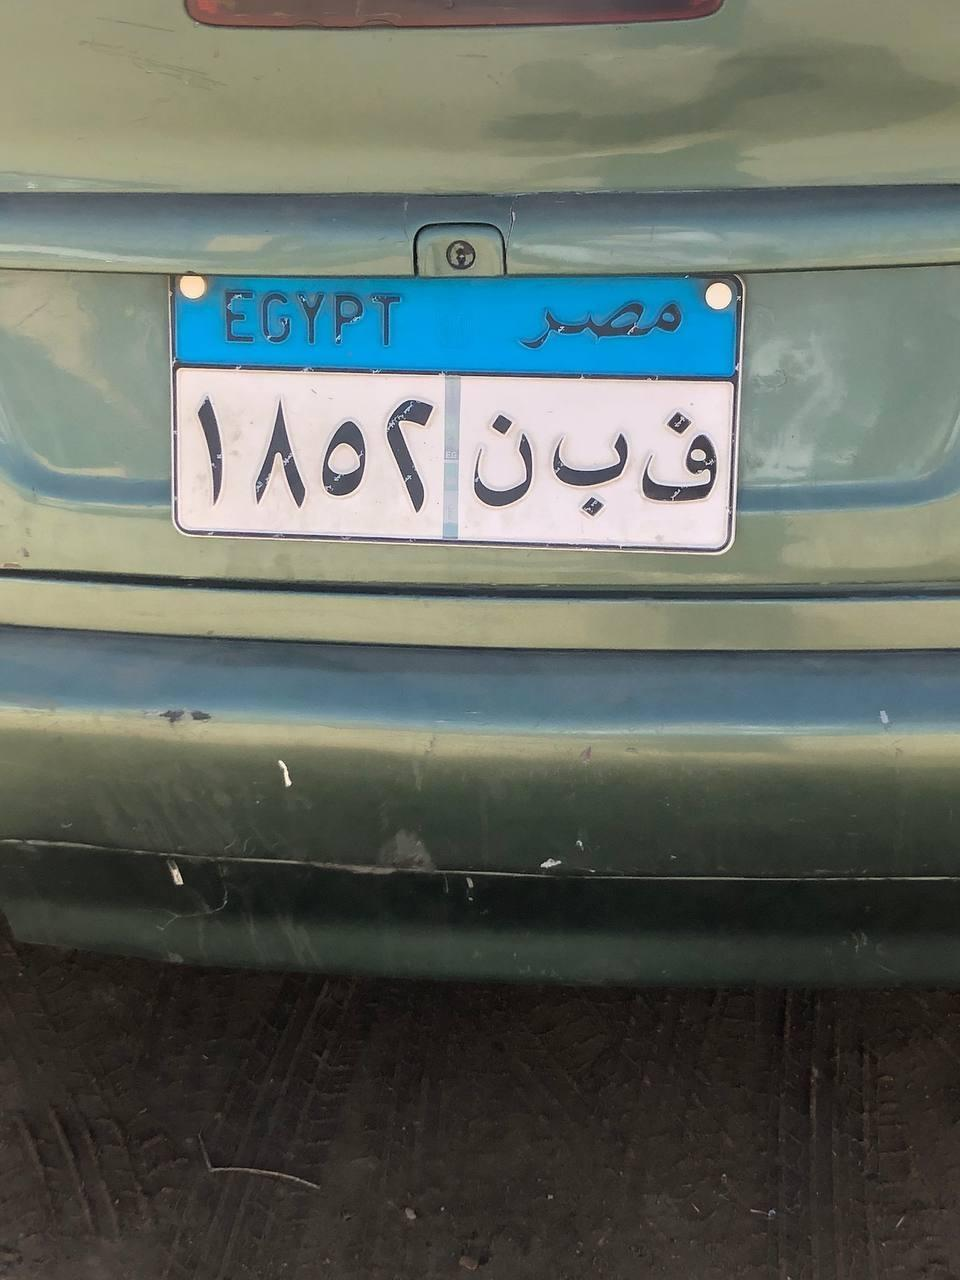1: (191, 378, 242, 510)
2: (378, 396, 437, 512)
5: (316, 400, 368, 490)
8: (243, 390, 323, 512)
F: (636, 396, 722, 514)
License Plate: (165, 270, 740, 564)
Noon: (470, 410, 534, 512)
baa: (546, 406, 632, 522)
